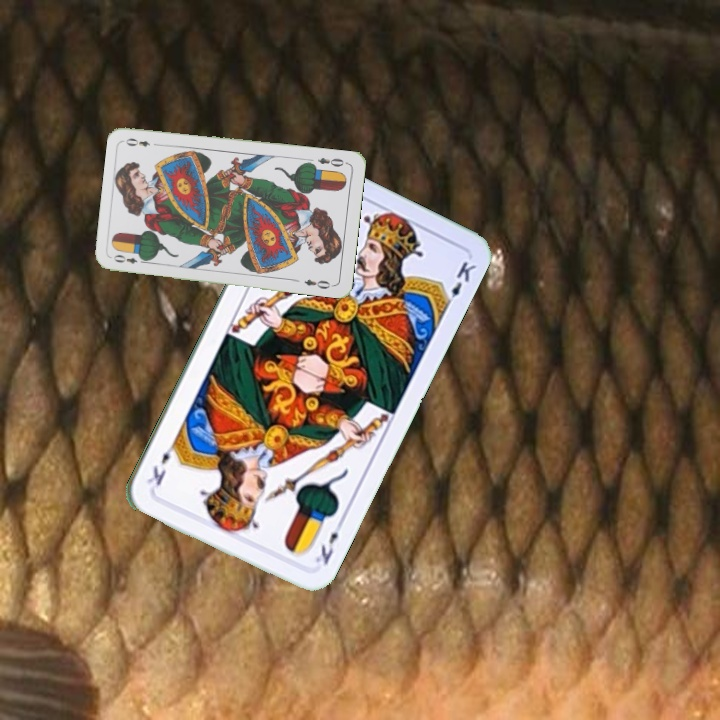EK: (311, 516, 346, 568)
EO: (110, 251, 149, 266), (314, 153, 350, 169)
